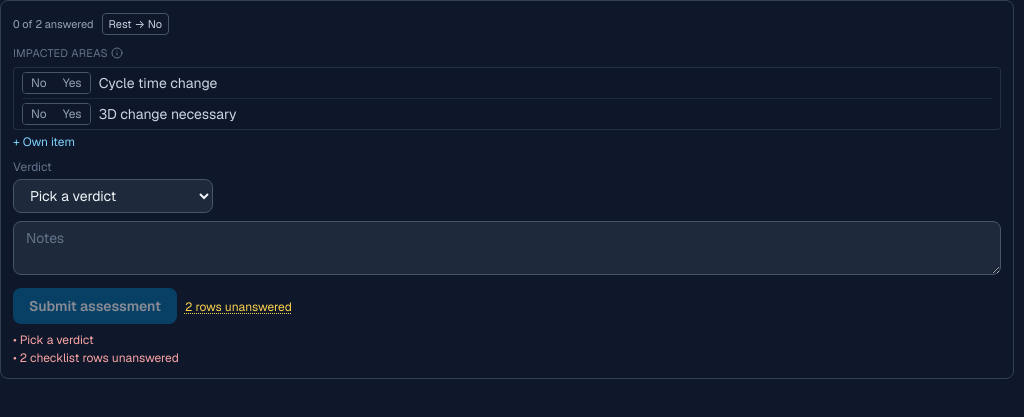
Test: AssessmentSubmitForm checklist gate › jumps to the first open row and highlights the open ones
Click the button with test id "check-no-cycle_time_change": [39, 83] box [23, 73, 55, 93]
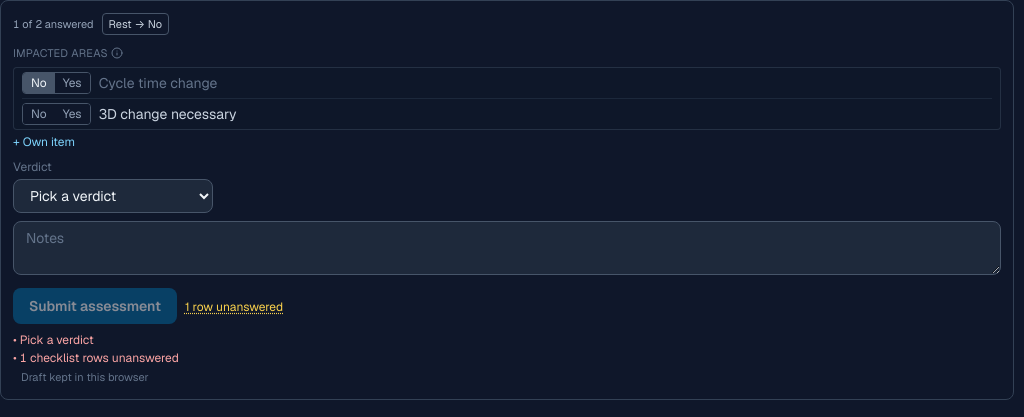
Click the button with test id "check-open-jump": [234, 307] box [185, 299, 283, 315]
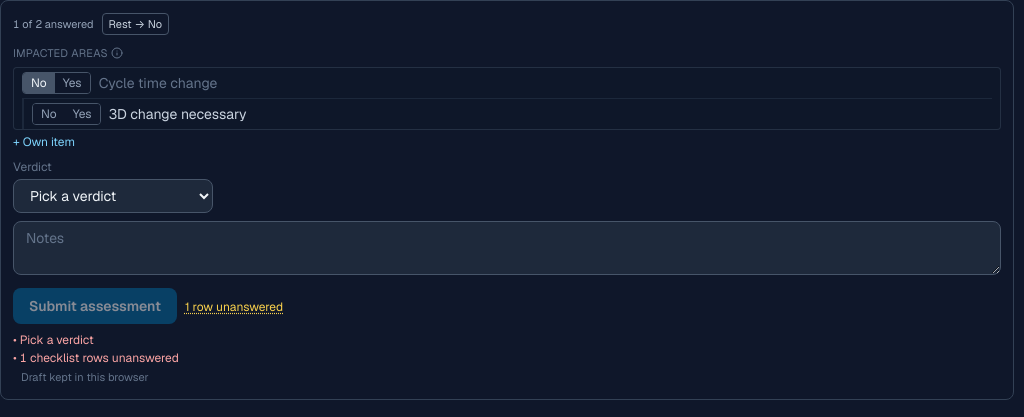
Now the list item with id "check-row-threed_change" has class "border-amber-500", box [22, 98, 992, 129]
